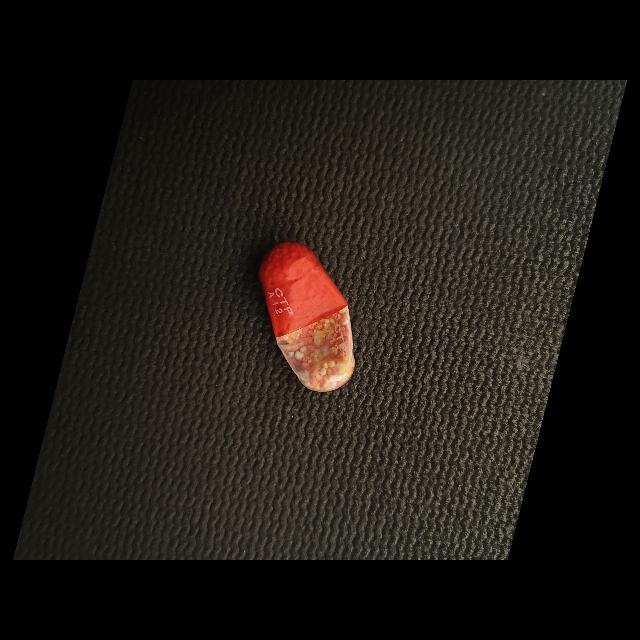Defective Capsule: (258, 242, 355, 392)
